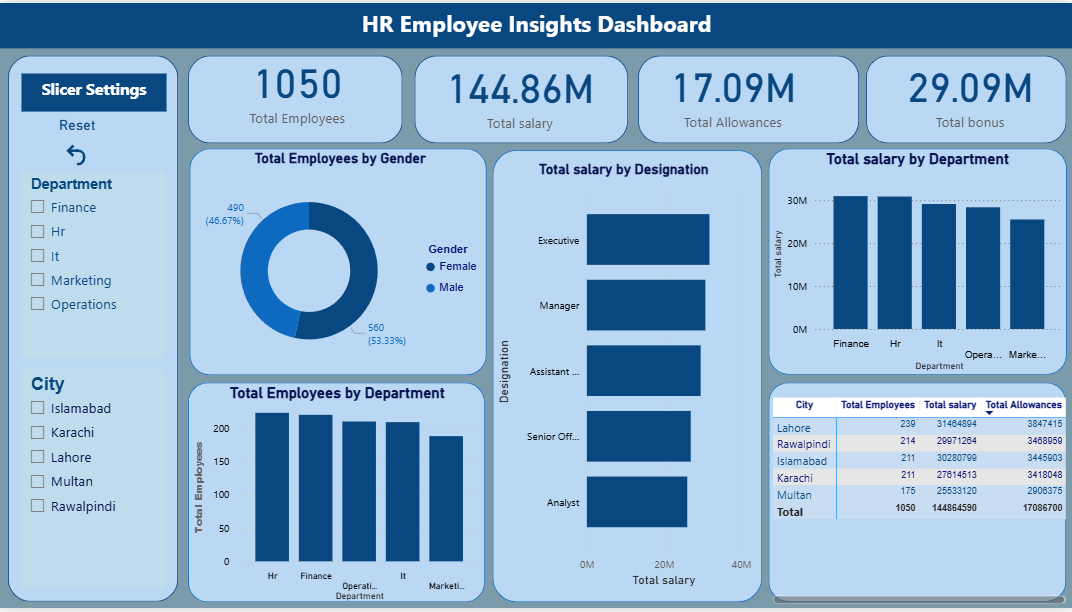

What the dashboard file says about the page in this screenshot:
{"tool":"powerbi","page":{"name":"Page 1","canvas":[1280,720],"ordinal":0},"visuals":[{"type":"shape","box":[225,61.9,255.4,104.6],"z":0},{"type":"shape","box":[493.9,61.9,254.2,104.6],"z":1000},{"type":"shape","box":[1032.9,62.4,238.8,104.7],"z":2000},{"type":"shape","box":[760.5,61.9,263.2,104.6],"z":3000},{"type":"shape","box":[11.2,61.9,202.5,650.2],"z":4000},{"type":"shape","box":[226.2,172.5,353.8,270],"z":5000},{"type":"shape","box":[916.5,172.9,355.3,269.4],"z":6000},{"type":"shape","box":[225.6,451.2,353.5,261.6],"z":7000},{"type":"shape","box":[587.2,174.4,320.9,538.4],"z":8000},{"type":"shape","box":[916.9,451.1,354.4,261],"z":9000},{"type":"card","fields":{"Values":["key measures (2).Total Employees"]},"box":[215,36.2,281.2,131.2],"z":10000},{"type":"card","fields":{"Values":["key measures (2).Total salary"]},"box":[470.2,42.8,300.4,128.2],"z":11000},{"type":"card","fields":{"Values":["key measures (2).Total Allowances"]},"box":[723.4,45,300.4,122.6],"z":12000},{"type":"card","fields":{"Values":["key measures (2).Total bonus"]},"box":[1032.8,56.2,247.5,97.9],"z":13000},{"type":"columnChart","fields":{"Category":["HR Data. Department"],"Y":["key measures (2).Total Employees"]},"box":[226.7,453.5,352.3,262.8],"z":14000},{"type":"columnChart","fields":{"Category":["HR Data. Department"],"Y":["key measures (2).Total salary"]},"box":[916.9,174.4,355.5,267.8],"z":15000},{"type":"barChart","fields":{"Category":["HR Data.Designation"],"Y":["key measures (2).Total salary"]},"box":[588.4,187.2,312.8,511.6],"z":16000},{"type":"donutChart","fields":{"Category":["HR Data. Gender "],"Y":["key measures (2).Total Employees"]},"box":[225,175,362.5,267.5],"z":17000},{"type":"pivotTable","fields":{"Rows":["HR Data.City"],"Values":["key measures (2).Total Employees","key measures (2).Total salary","key measures (2).Total Allowances"]},"box":[916.9,464.6,358.9,255.4],"z":18000},{"type":"textbox","box":[0,0,1280.2,54],"z":19000},{"type":"slicer","fields":{"Values":["HR Data. Department"]},"box":[25.8,199.6,173.2,222.8],"z":20000},{"type":"slicer","fields":{"Values":["HR Data.City"]},"box":[25.8,435.9,173.2,262.1],"z":21000},{"type":"actionButton","title":"Reset","box":[72,135,60.8,65.2],"z":22000},{"type":"textbox","box":[27.4,83.1,172.5,45],"z":23000}]}

Visuals, with their boxes in screenshot pixels (x1, y1, x2, y2), scaled from the page's 1280x720 canvas onto the 1072x612 screenshot:
shape: rect(188, 53, 402, 142)
shape: rect(414, 53, 627, 142)
shape: rect(865, 53, 1065, 142)
shape: rect(637, 53, 857, 142)
shape: rect(9, 53, 179, 605)
shape: rect(189, 147, 486, 376)
shape: rect(768, 147, 1065, 376)
shape: rect(189, 384, 485, 606)
shape: rect(492, 148, 761, 606)
shape: rect(768, 383, 1065, 605)
card - key measures (2).Total Employees: rect(180, 31, 416, 142)
card - key measures (2).Total salary: rect(394, 36, 645, 145)
card - key measures (2).Total Allowances: rect(606, 38, 857, 142)
card - key measures (2).Total bonus: rect(865, 48, 1071, 131)
columnChart - HR Data. Department x key measures (2).Total Employees: rect(190, 385, 485, 609)
columnChart - HR Data. Department x key measures (2).Total salary: rect(768, 148, 1066, 376)
barChart - HR Data.Designation x key measures (2).Total salary: rect(493, 159, 755, 594)
donutChart - HR Data. Gender  x key measures (2).Total Employees: rect(188, 149, 492, 376)
pivotTable - HR Data.City x key measures (2).Total Employees: rect(768, 395, 1068, 611)
textbox: rect(0, 0, 1071, 46)
slicer - HR Data. Department: rect(22, 170, 167, 359)
slicer - HR Data.City: rect(22, 371, 167, 593)
"Reset" actionButton: rect(60, 115, 111, 170)
textbox: rect(23, 71, 167, 109)
